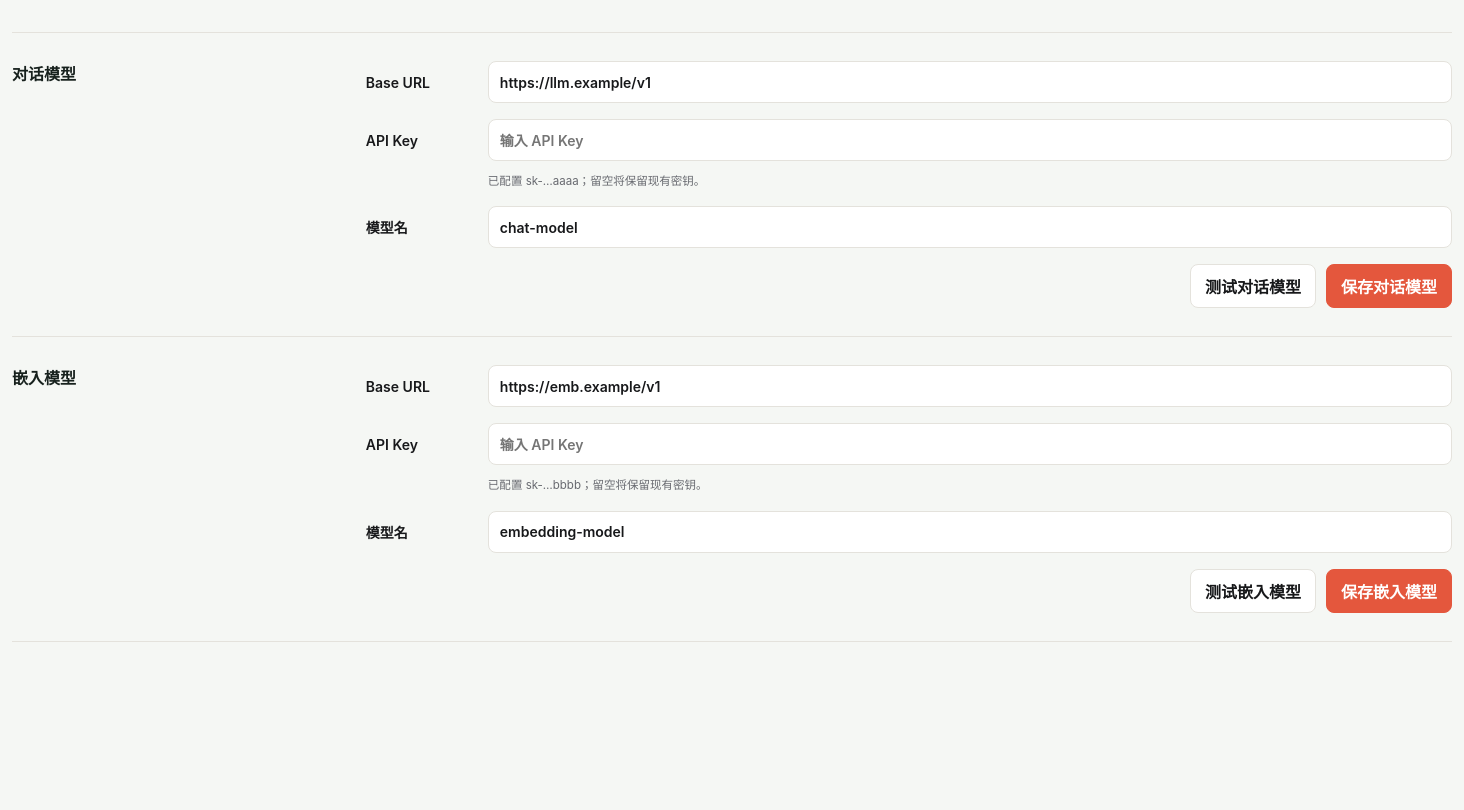
it: model settings form › keeps existing values and exposes an error state when a request fails
Click the button "测试对话模型" at (1253, 286), box [1190,264,1316,308]
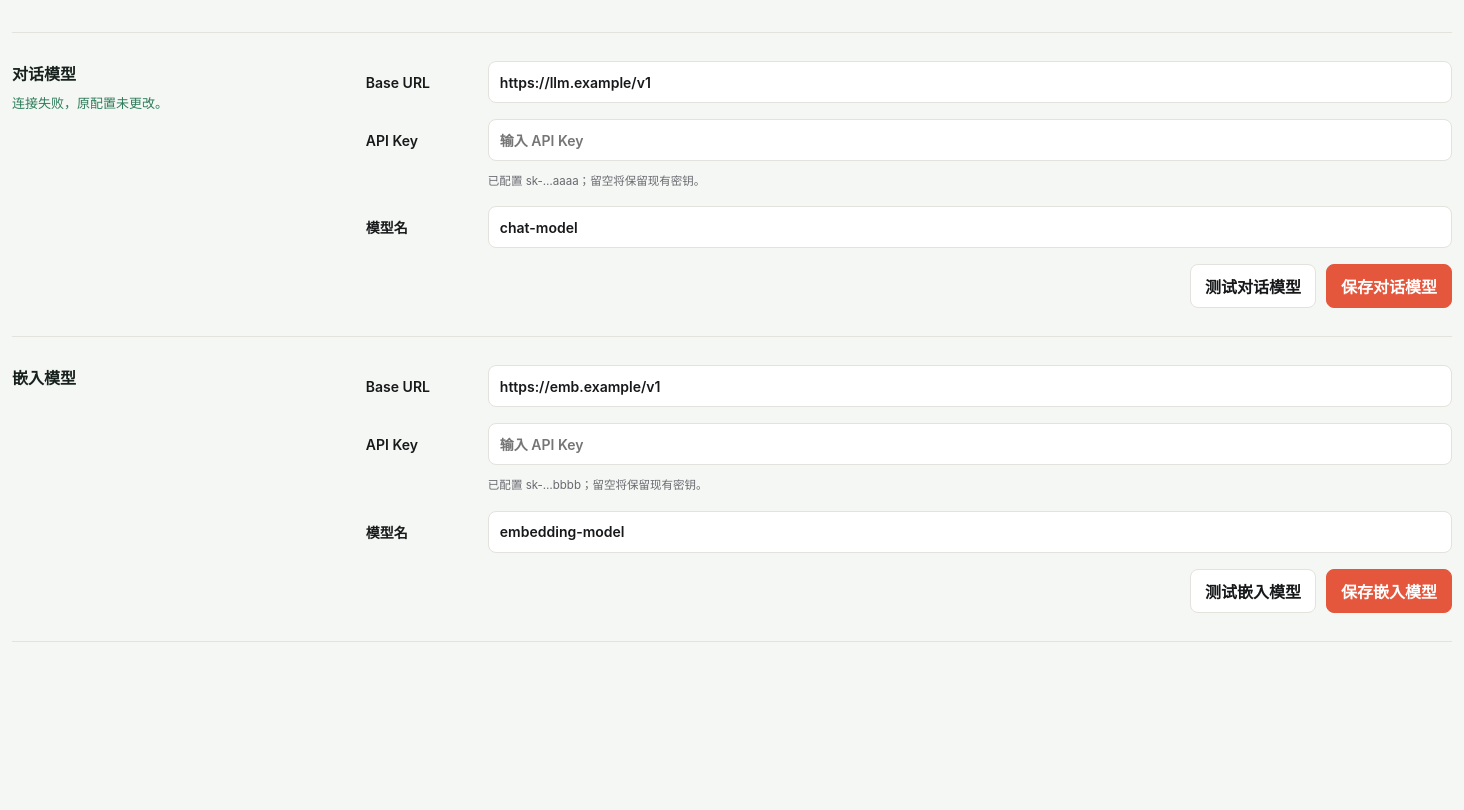
Expected: the field showing "chat-model" below "已配置 sk-…aaaa；留空将保留现有密钥。" holds "chat-model", [488,206,1452,248]
Result: the text "连接失败，原配置未更改。" is shown at [12,95,168,111]
